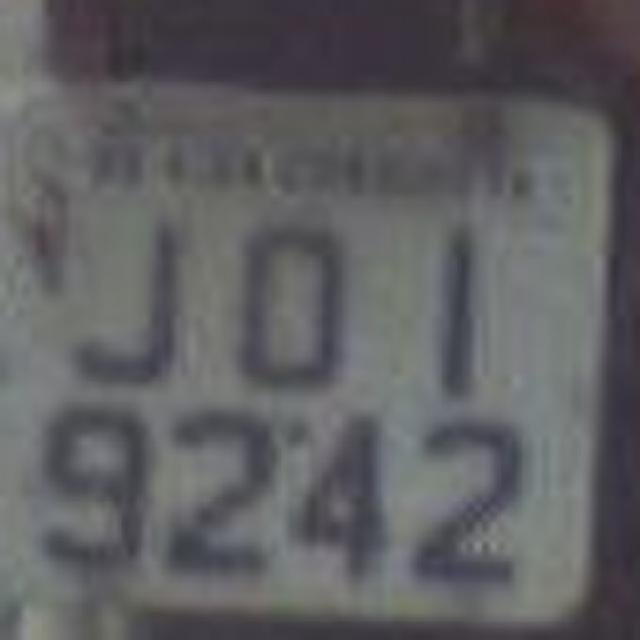0: (209, 200, 376, 405)
2: (392, 396, 548, 592), (152, 400, 308, 580)
4: (284, 388, 416, 588)
9: (20, 396, 172, 584)
J: (52, 195, 208, 420)
